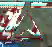Speed Breaker ahead: (0, 5, 42, 46)
